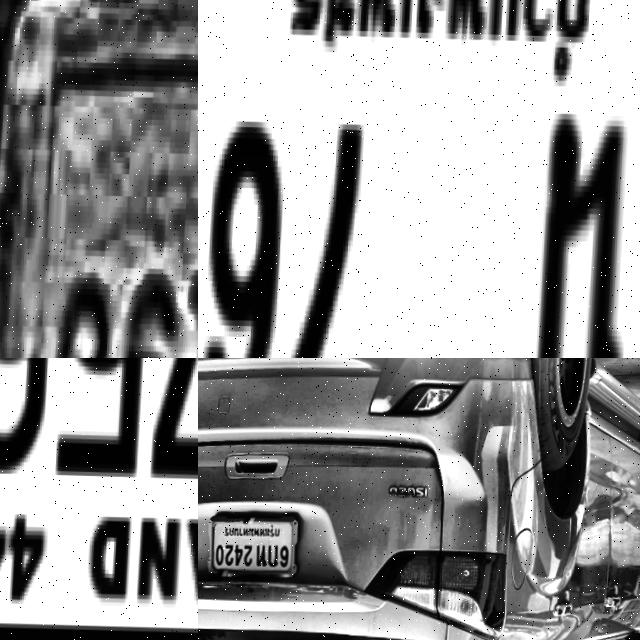license-plate: (198, 0, 640, 358), (0, 0, 198, 358), (0, 358, 198, 640), (204, 512, 303, 583)
